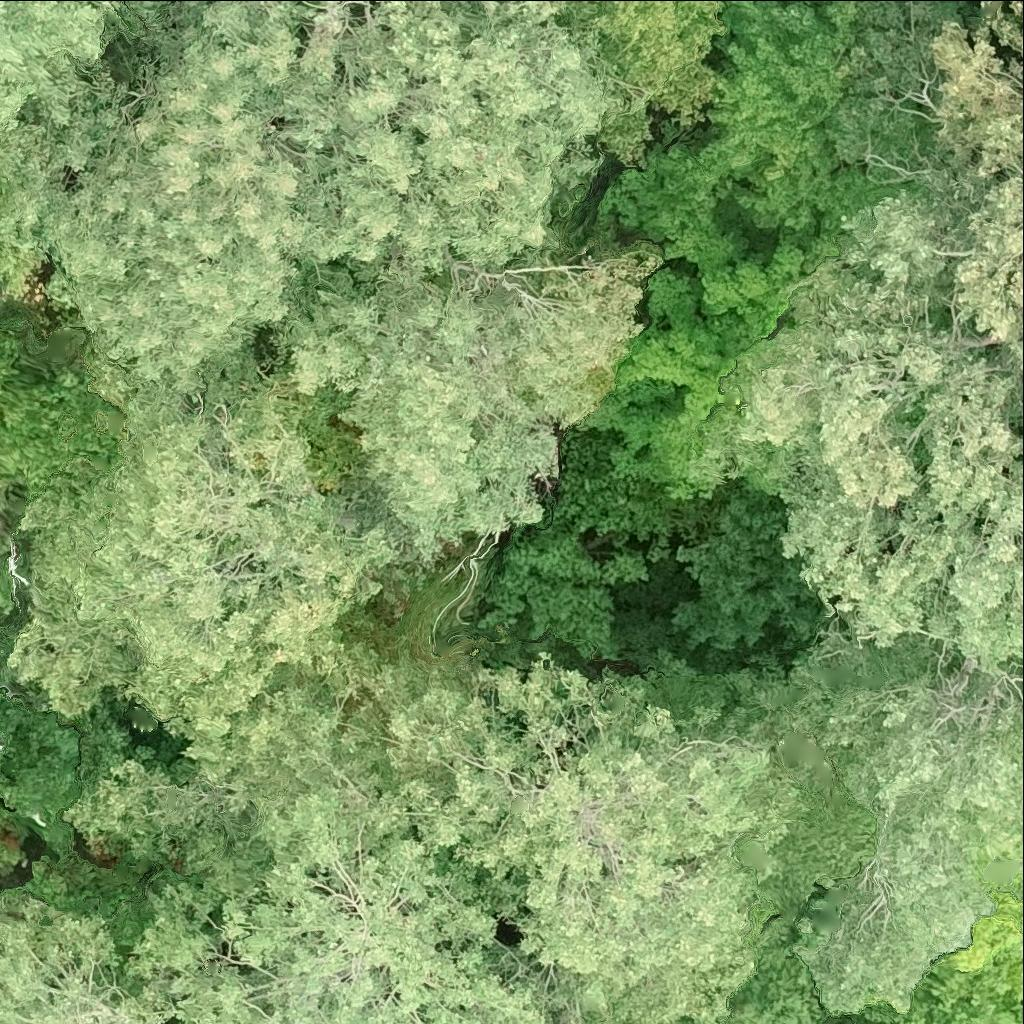crown: (0, 0, 631, 392), (8, 321, 406, 907), (697, 0, 1023, 679), (350, 654, 799, 1023), (637, 630, 1023, 1023), (0, 792, 552, 1023), (294, 255, 656, 564), (597, 0, 942, 244), (560, 0, 726, 174), (862, 853, 1023, 1023), (579, 325, 739, 489), (0, 359, 125, 514), (0, 695, 100, 883), (0, 0, 121, 132), (0, 239, 34, 298), (0, 326, 20, 365), (954, 0, 967, 11), (0, 745, 1, 750)
